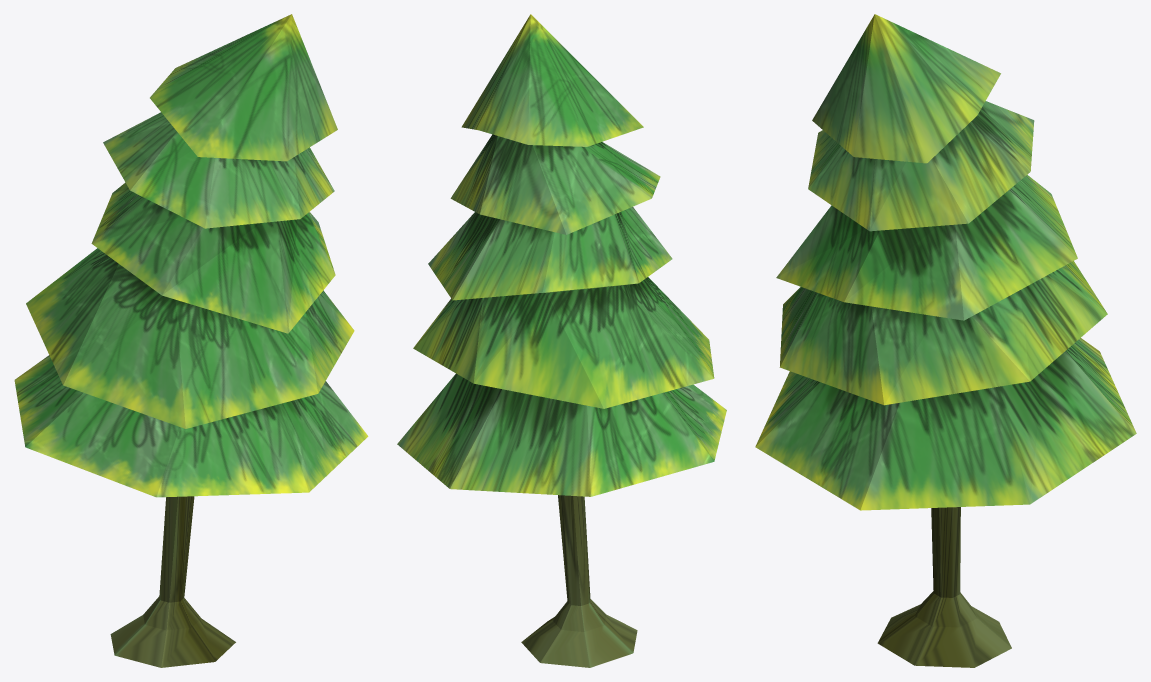
File: tree- fat.FBX
3 views of the same model, side by side, from view 1: azimuth 30°, elevation 25°; view 2: azimuth 150°, elevation 25°; view 3: azimuth 270°, elevation 25° (orthographic). The views are drawn at different scales.
Visible parts, largest first — view 1: tree- fat; view 2: tree- fat; view 3: tree- fat.
Part boxes in pixels (x1=…): tree- fat: x1=14, y1=14, x2=368, y2=667; tree- fat: x1=397, y1=14, x2=726, y2=667; tree- fat: x1=755, y1=14, x2=1136, y2=667.
Size of the model in its own units: 4.59 by 9.18 by 4.71.
